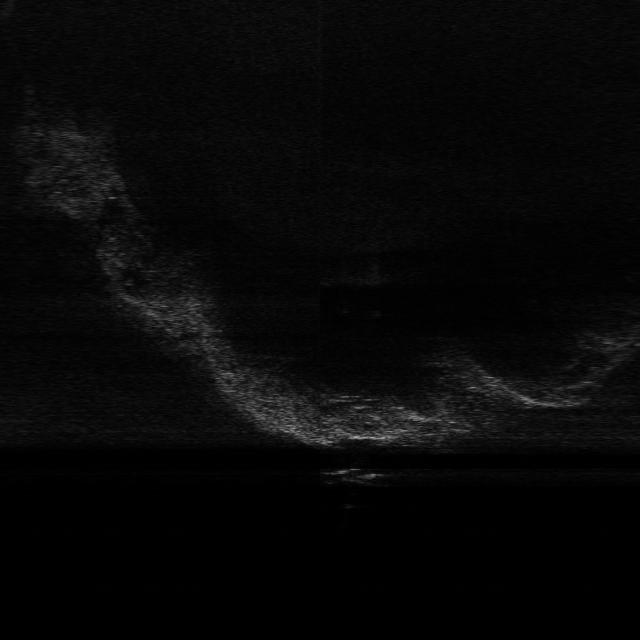plane: (320, 466, 400, 490)
